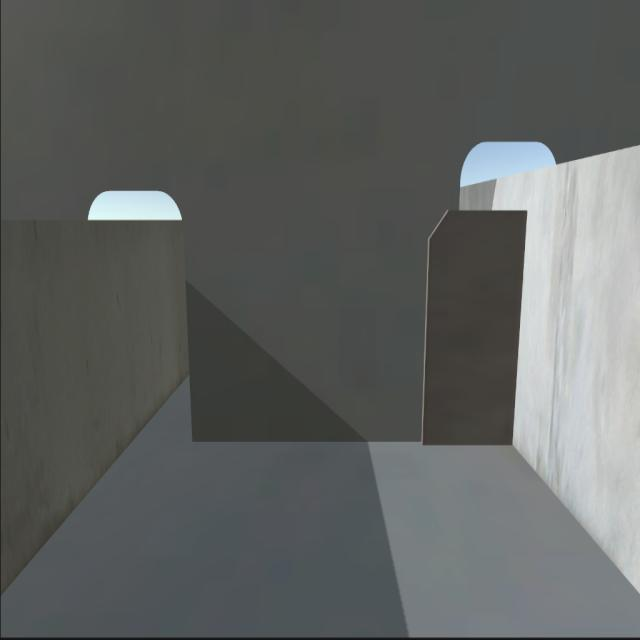fillet_yong_jeop_jang: (184, 432, 513, 458)
longi_yong_jeop_jang: (511, 206, 539, 447)
plate_CP03: (424, 206, 518, 450)
